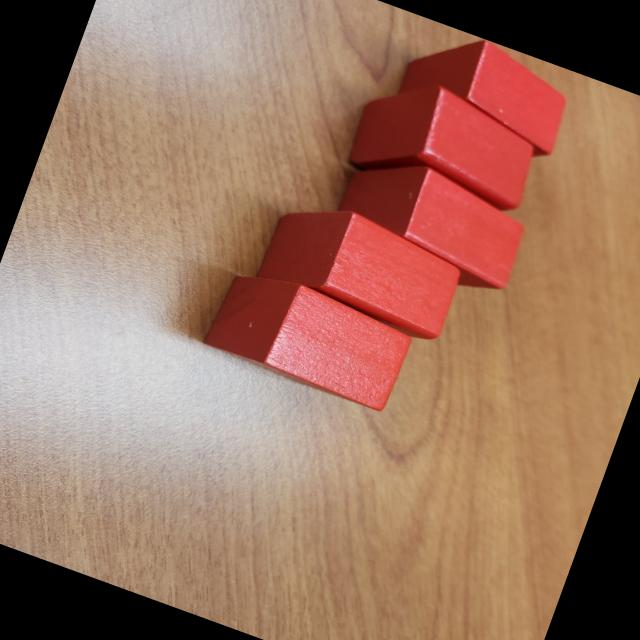red: (319, 140, 542, 306), (248, 186, 472, 348), (336, 62, 551, 230), (200, 258, 418, 414), (395, 19, 581, 164)
